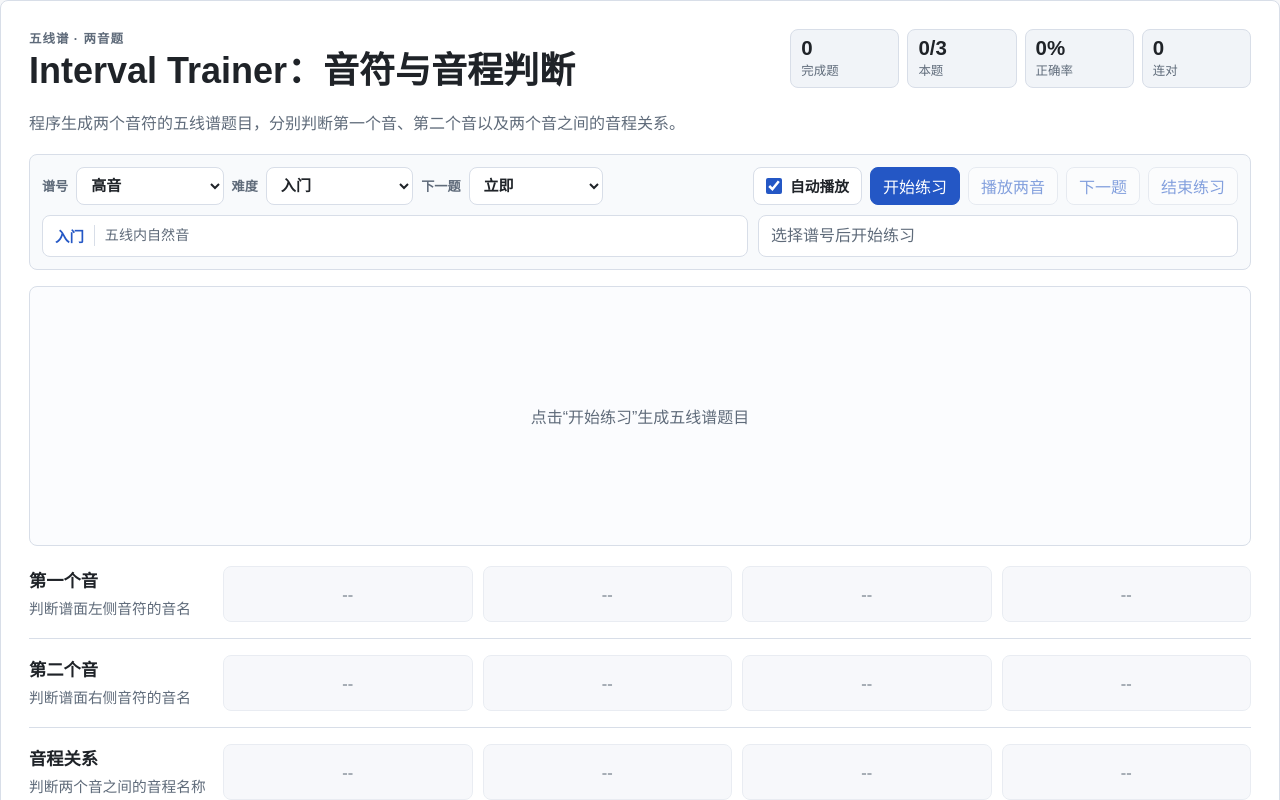
Test: IntervalTrainerPage › 可选择手动进入下一题，答错后保留正确答案
Select "手动" in the dropdown labelled "下一题" at (536, 186), box [469,167,603,205]
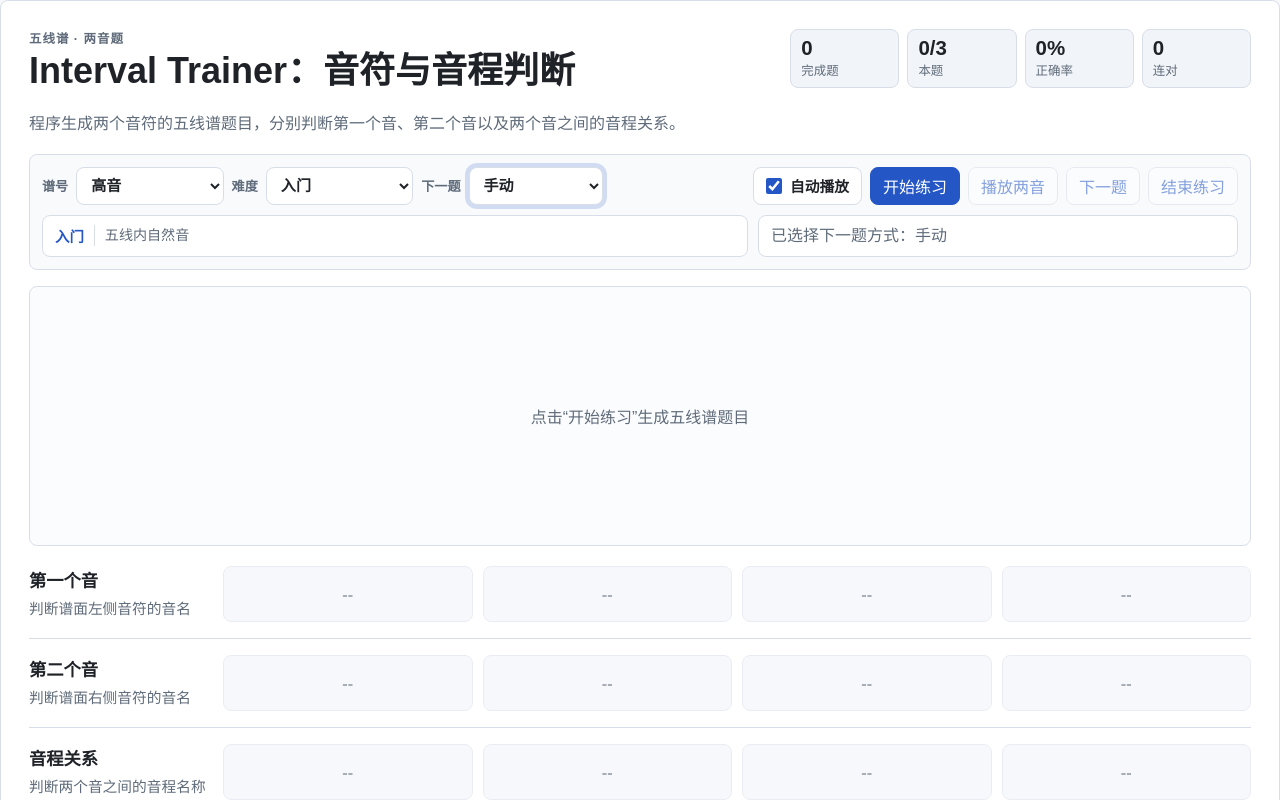
expect the message reads "已选择下一题方式：手动": met, box [771,227,947,244]
Click the button "开始练习".
click(915, 186)  # box [870,167,960,205]
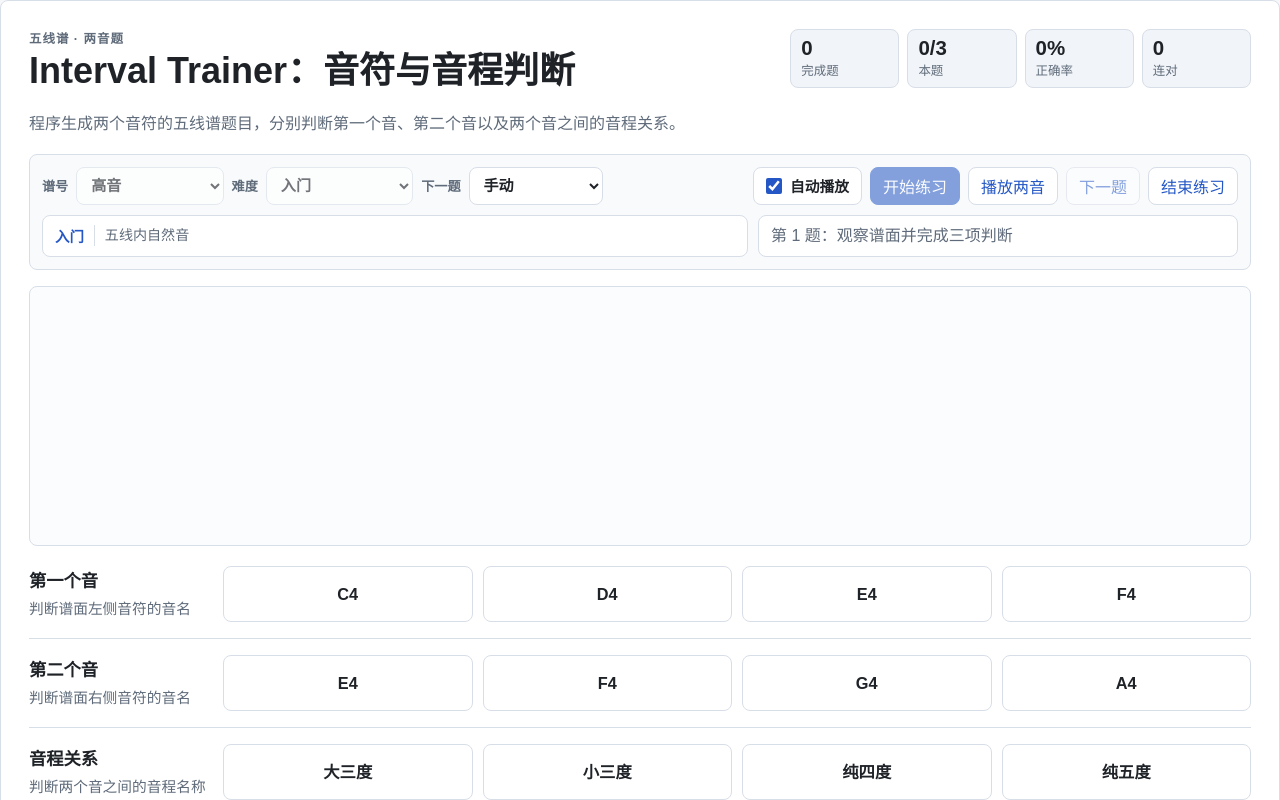
Click the button "C4".
click(348, 594)  # box [223,566,472,622]
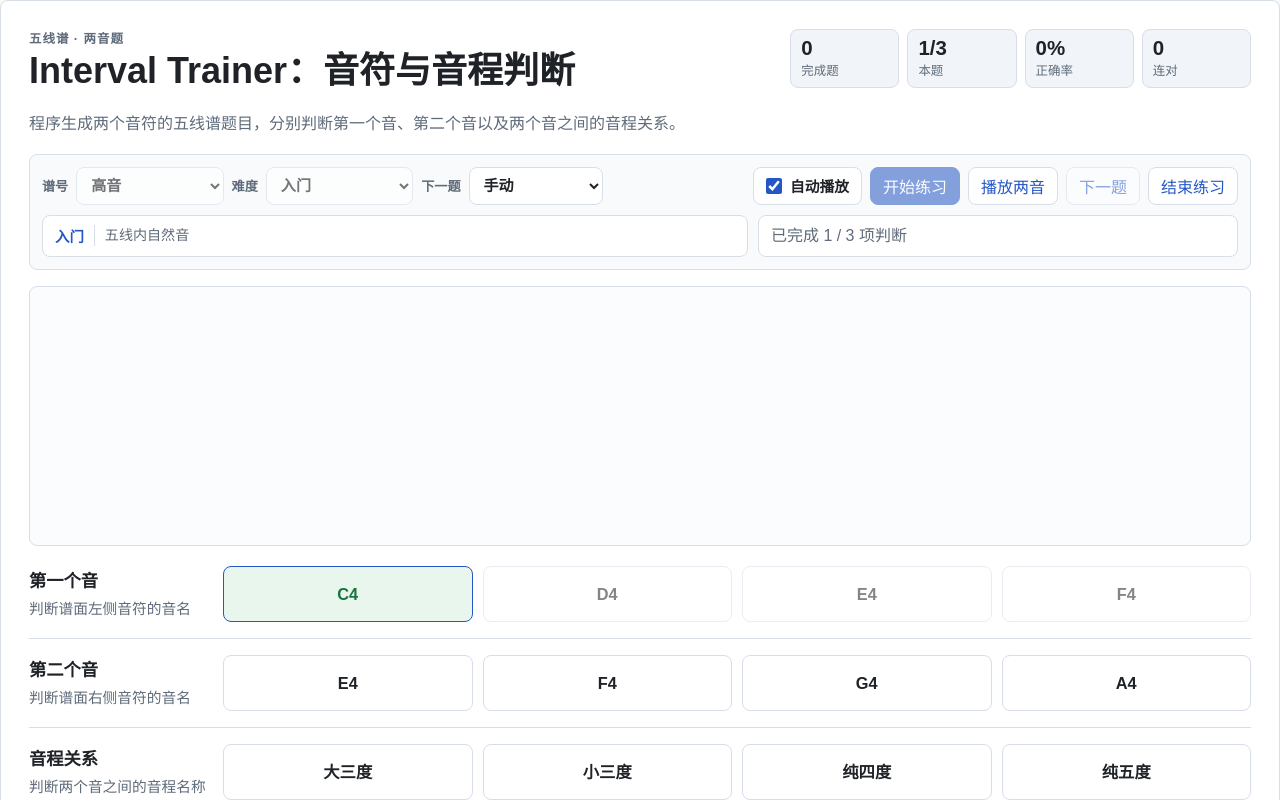
Click the button "F4" in the row of "判断谱面右侧音符的音名".
click(607, 683)  # box [482,655,732,711]
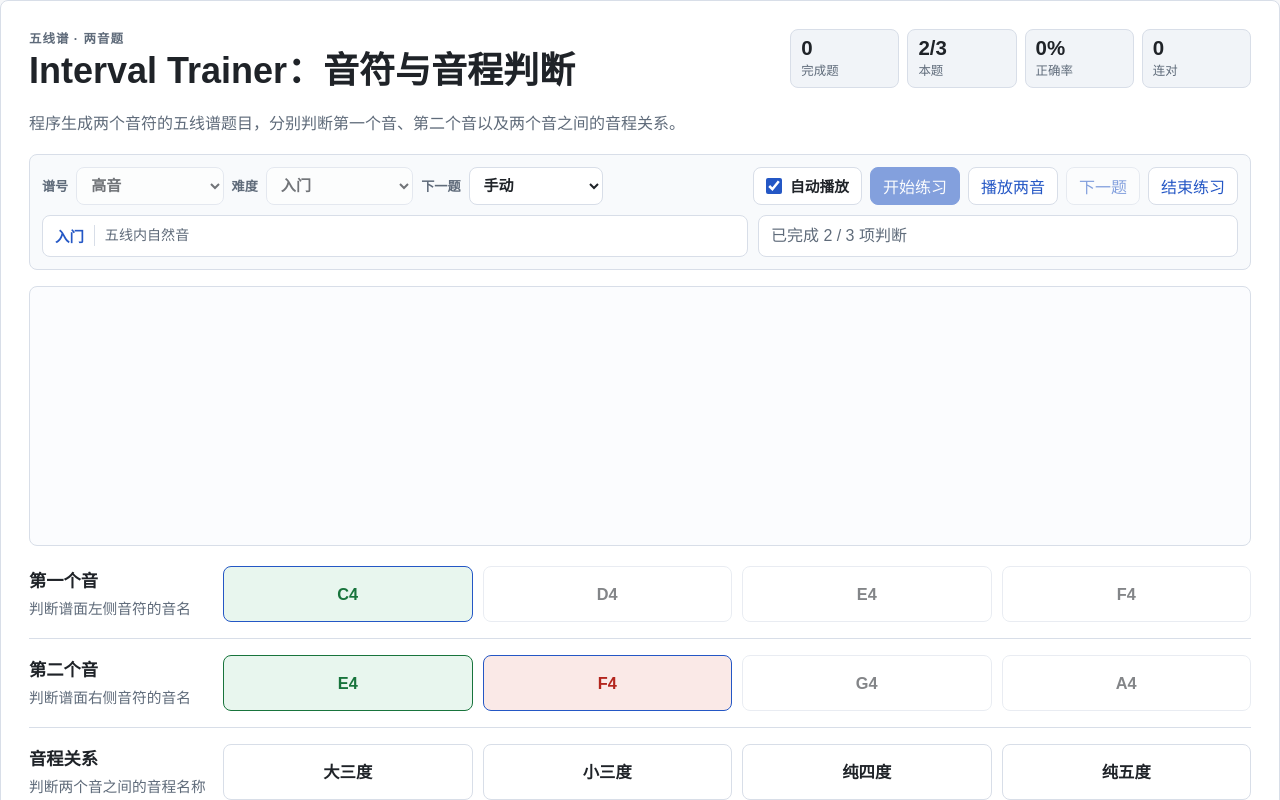
Click the button "大三度".
click(348, 772)  # box [223,744,472,799]
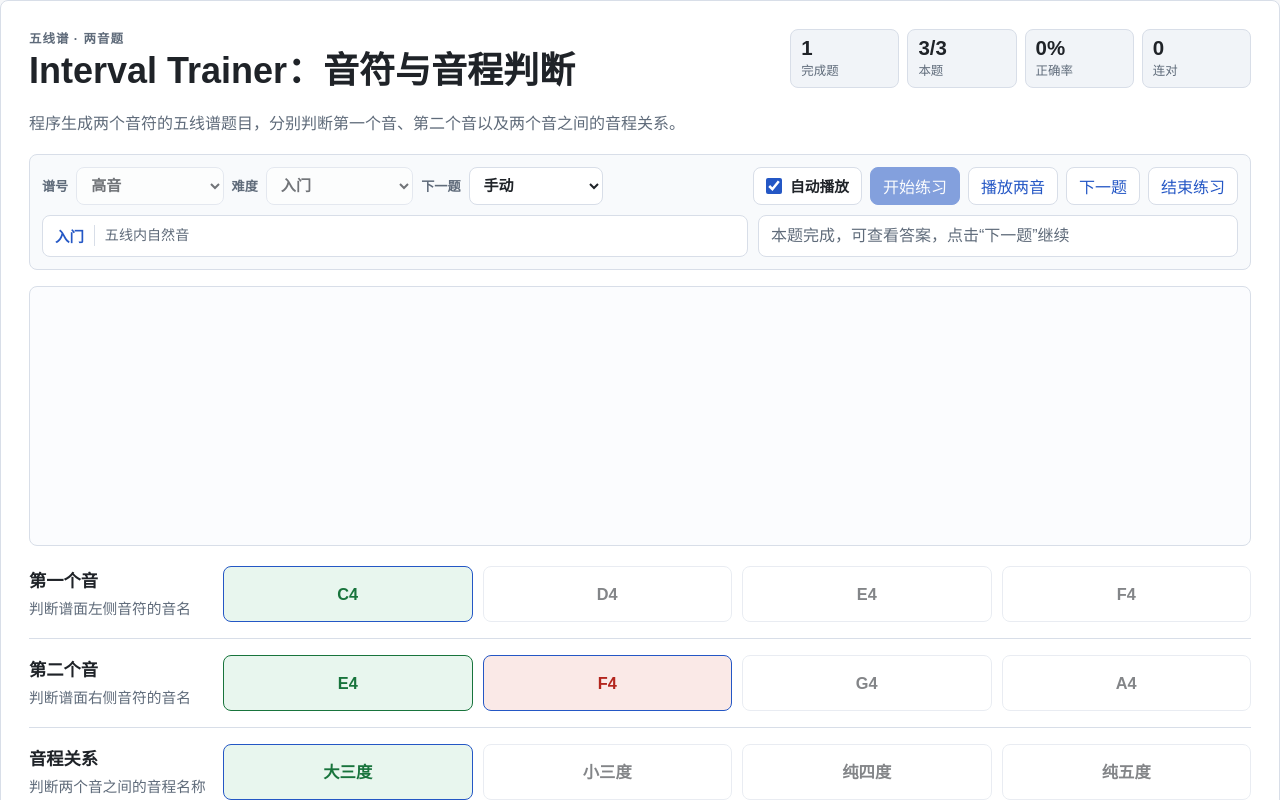
expect the message reads "本题完成，可查看答案，点击“下一题”继续": met, box [771,227,1070,244]
Click the button "下一题".
click(1103, 186)  # box [1066,167,1140,205]
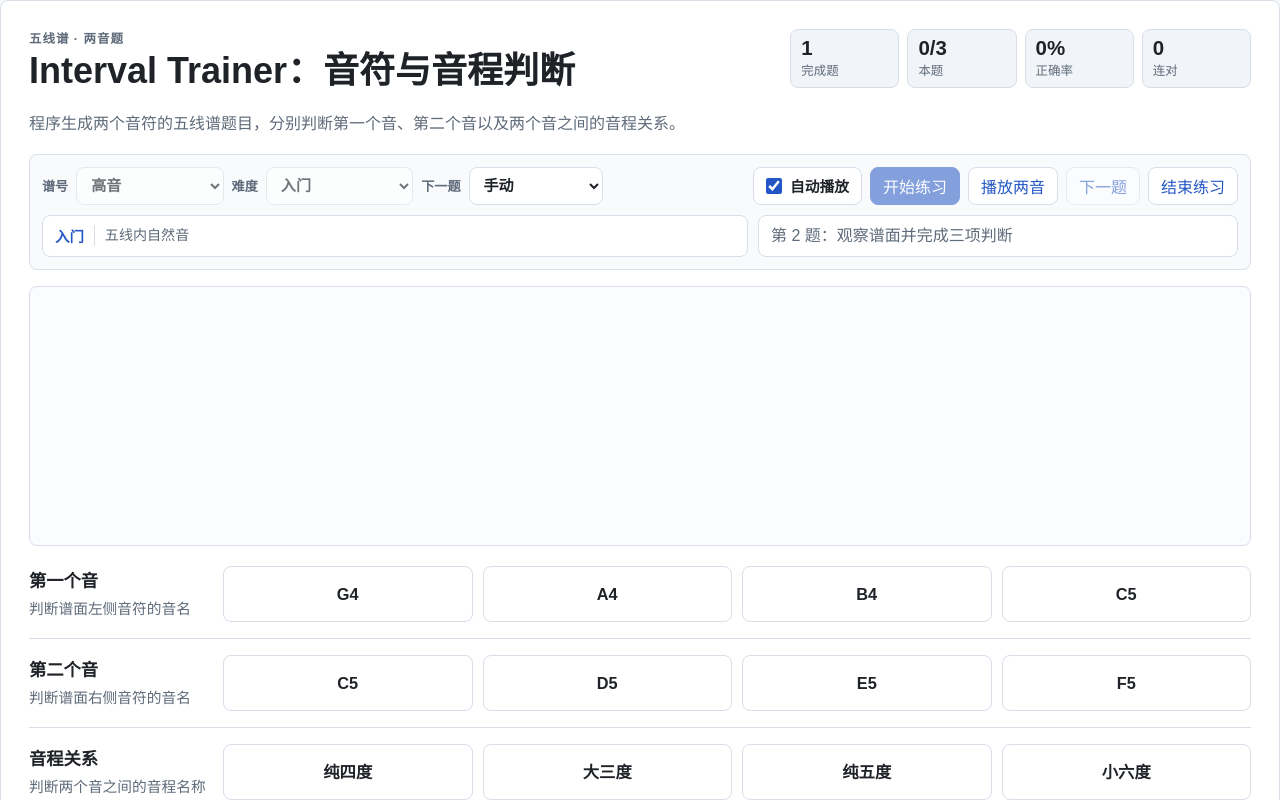
expect the message shows "第 2 题": met, box [771,227,1013,244]
expect the button "G4" is enabled: met, box [223,566,472,622]
